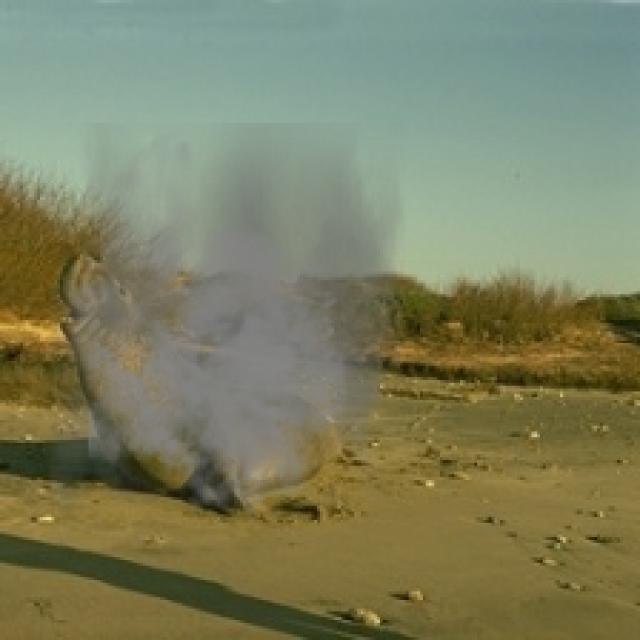smoke: (48, 123, 406, 520)
